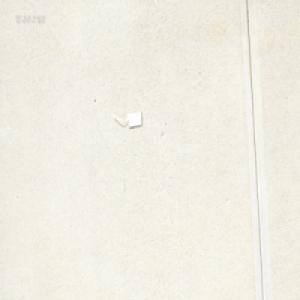LuggageTag: (111, 111, 142, 128)
